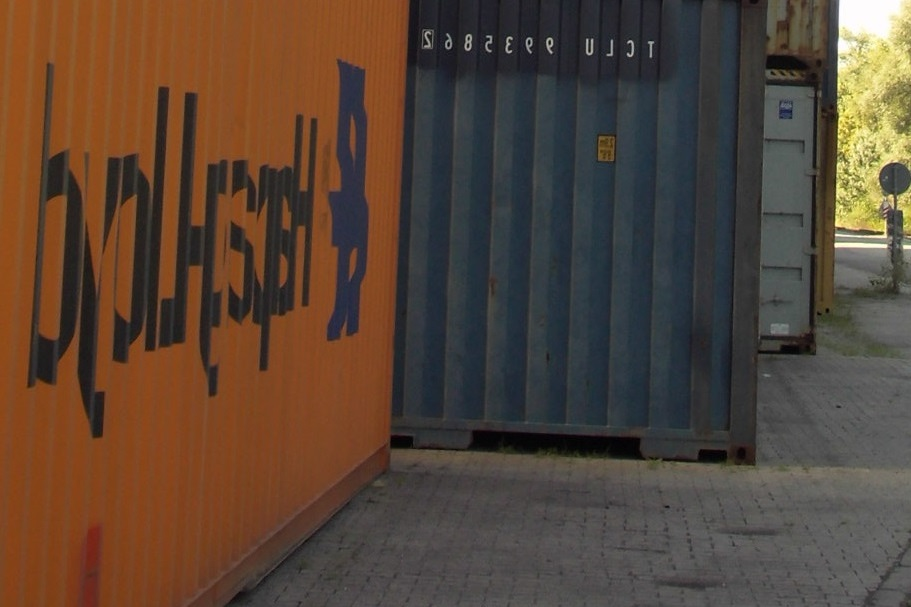container_no_door: (391, 1, 763, 450)
